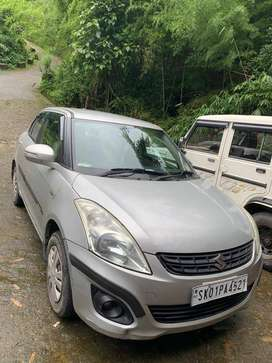SK01PA4521: (190, 274, 247, 306)
